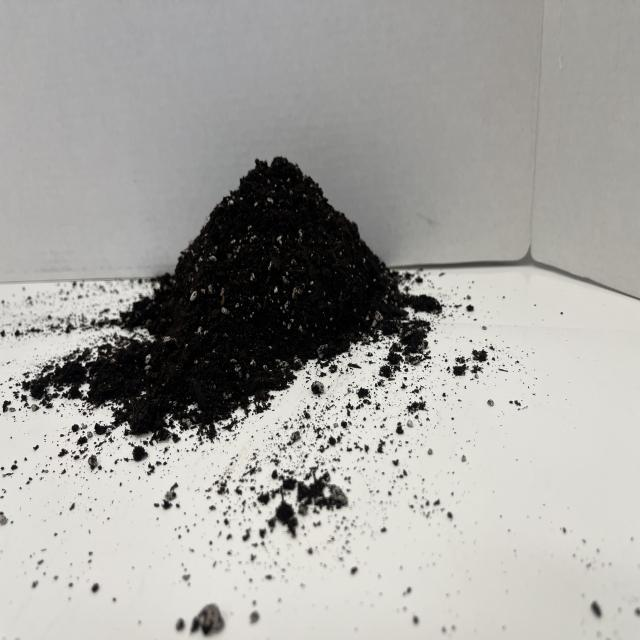soil: (22, 153, 438, 442)
